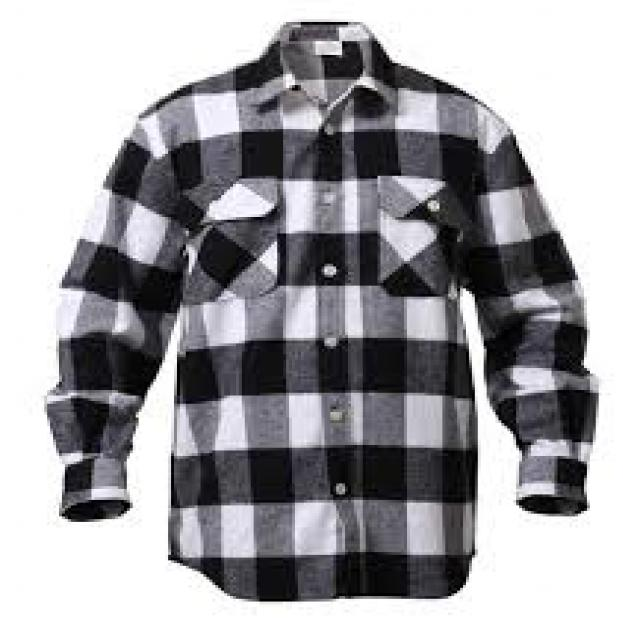plaid: (16, 25, 607, 640)
